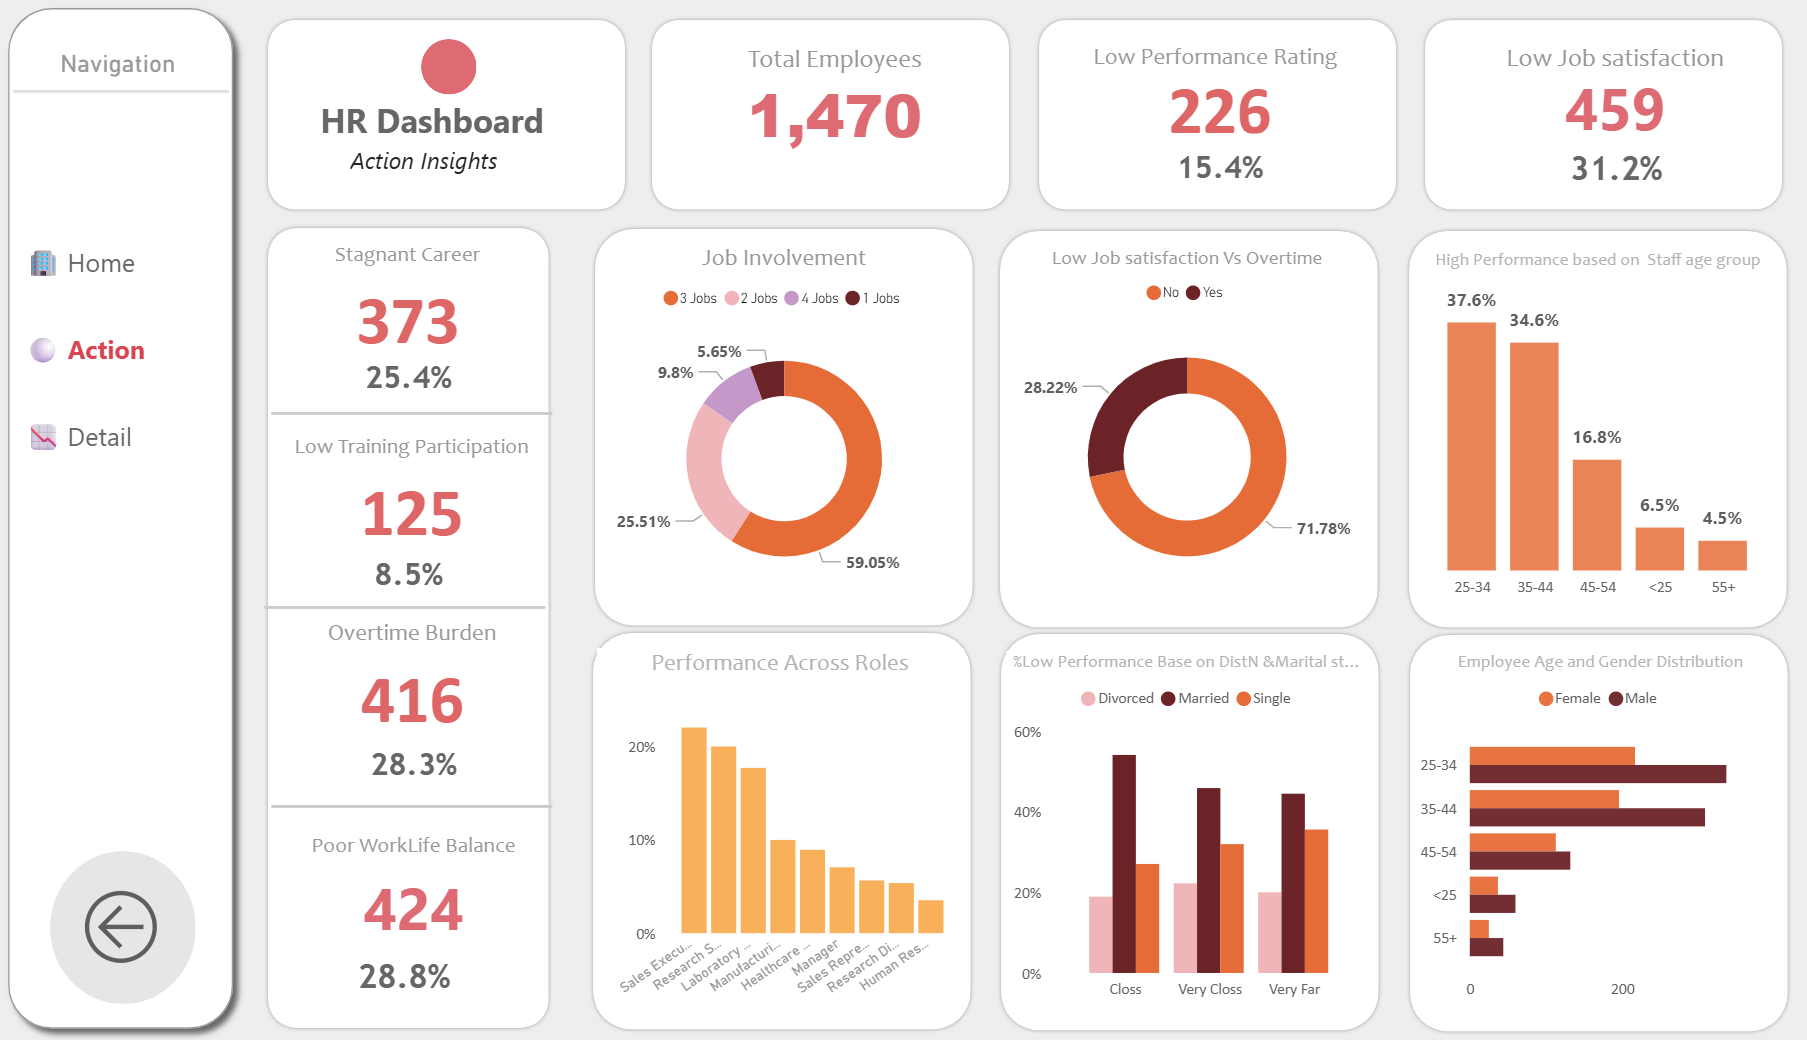

Layout of this report page (visuals, bound fields, positions):
{"tool":"powerbi","page":{"name":"⚪          Action","canvas":[1280,720],"ordinal":1},"visuals":[{"type":"shape","box":[440.3,158.5,265.3,278.2],"z":0},{"type":"shape","box":[30,0,172.9,720],"z":1000},{"type":"shape","box":[1010.9,14.1,251.1,135.9],"z":2000},{"type":"shape","box":[745.7,14.1,251.1,135.9],"z":3000},{"type":"shape","box":[215.2,14.1,251.1,135.9],"z":4000},{"type":"shape","box":[215.1,157.8,198.6,555.7],"z":5000},{"type":"shape","box":[438.9,436,265.3,278.2],"z":6000},{"type":"shape","box":[68.1,588.7,100.4,105.4],"z":7000},{"type":"textbox","title":"HR Dashboard","box":[248.9,70.7,179.3,34.8],"z":8000},{"type":"shape","box":[323.3,30,38.3,38.3],"z":9000},{"type":"shape","box":[479.3,14.1,251.1,135.9],"z":10000},{"type":"textbox","box":[269.4,97.8,113.9,34.8],"z":11000},{"type":"card","title":"Total Employees","fields":{"Values":["Sum(Sheet1.EmployeeCount)"]},"box":[521.7,32.6,171.7,82.6],"z":12000},{"type":"shape","box":[220.1,280.4,193.6,14.3],"z":13000},{"type":"card","title":"Poor WorkLife Balance","fields":{"Values":["HR Table.Poor WorkLifeBalance"]},"box":[231.6,575.8,172.8,84.6],"z":14000},{"type":"card","fields":{"Values":["HR Table.Percentage Poor WorkLifeBalance"]},"box":[258.9,656.9,106.1,37.3],"z":15000},{"type":"card","fields":{"Values":["HR Table.Percentage Overtime Burden"]},"box":[279.7,514.2,76.7,30.1],"z":16000},{"type":"shape","box":[42.9,60,148.6,12.9],"z":17000},{"type":"textbox","title":"Navigation","box":[70,37.1,91.4,27.1],"z":18000},{"type":"pageNavigator","title":"Navvigation","box":[43,157.6,150,170],"z":19000},{"type":"card","title":"Overtime Burden","fields":{"Values":["HR Table.Overtime Burden"]},"box":[237.4,428.8,159.9,85.3],"z":20000},{"type":"card","fields":{"Values":["HR Table.Percentage Low Performance Rating"]},"box":[834.5,104.2,77,30],"z":21000},{"type":"card","title":"Low Performance Rating","fields":{"Values":["HR Table.Low Performance Rating"]},"box":[780.7,32,183.9,68.1],"z":22000},{"type":"card","title":"Low Job satisfaction","fields":{"Values":["HR Table.Low Job Satisfaction"]},"box":[1048.4,31.3,192.8,69.5],"z":23000},{"type":"card","fields":{"Values":["HR Table.Percentage Low Job satisfaction"]},"box":[1101.5,100.8,87.2,37.5],"z":24000},{"type":"card","fields":{"Values":["HR Table.Percentage Low Training Participation"]},"box":[276.8,384.4,76.7,29.4],"z":25000},{"type":"card","title":"Low Training Participation","fields":{"Values":["HR Table.Low Training Participation"]},"box":[228.8,301.2,175.7,83.2],"z":26000},{"type":"card","fields":{"Values":["HR Table.Percentage Stagnant Career"]},"box":[276.1,248.8,77.4,29.4],"z":27000},{"type":"card","title":"Stagnant Career","fields":{"Values":["HR Table.Stagnant Career"]},"box":[226.6,169.2,175.7,83.9],"z":28000},{"type":"shape","box":[215.1,413.8,193.6,14.3],"z":29000},{"type":"shape","box":[718.5,159.9,265.3,278.2],"z":30000},{"type":"shape","box":[220.1,550.7,193.6,14.3],"z":31000},{"type":"clusteredColumnChart","title":"Performance Across Roles","fields":{"Category":["HR Table.JobRole"],"Y":["HR Table.Percentage PerformanceRating by JobRole"]},"box":[444.6,448.9,251.7,248.1],"z":32000},{"type":"shape","box":[1001.1,437.4,265.3,278.2],"z":33000},{"type":"shape","box":[1000.3,159.9,265.3,278.2],"z":34000},{"type":"shape","box":[719.2,436.7,265.3,278.2],"z":35000},{"type":"donutChart","title":"Job Involvement","fields":{"Category":["HR Table.Job Involvement"],"Y":["CountNonNull(HR Table.Job Involvement)"]},"box":[452.5,170.7,240.9,250.3],"z":36000},{"type":"lineClusteredColumnComboChart","title":"%Low Performance Base on DistN &Marital status","fields":{"Category":["HR Table.Distance from office"],"Y":["HR Table.Percentage Low Performance by Distance & MaritalStatus"],"Series":["HR Table.MaritalStatus"]},"box":[725.7,451,251.7,248.1],"z":37000},{"type":"clusteredBarChart","title":"Employee Age and Gender Distribution","fields":{"Category":["HR Table.Age Category"],"Y":["CountNonNull(HR Table.Age Category)"],"Series":["HR Table.Gender"]},"box":[1007.5,451,251.7,248.1],"z":38000},{"type":"donutChart","title":" Low Job satisfaction Vs Overtime","fields":{"Y":["HR Table.Percentage High Performance Rating R"],"Category":["HR Table.OverTime"]},"box":[730,172.1,240.9,250.3],"z":39000},{"type":"lineStackedColumnComboChart","title":"High Performance based on  Staff age group","fields":{"Category":["HR Table.Age Category"],"Y":["HR Table.Percentage High Performance Rating R"]},"box":[1006.8,175,251.7,248.1],"z":40000},{"type":"actionButton","box":[85.3,609.4,66.4,63.2],"z":41000}]}

Visuals, with their boxes in screenshot pixels (x1, y1, x2, y2), scaled from the page's 1280x720 canvas onto the 1807x1040 screenshot:
shape: crop(622, 229, 996, 631)
shape: crop(42, 0, 286, 1039)
shape: crop(1427, 20, 1782, 217)
shape: crop(1053, 20, 1407, 217)
shape: crop(304, 20, 658, 217)
shape: crop(304, 228, 584, 1031)
shape: crop(620, 630, 994, 1032)
shape: crop(96, 850, 238, 1003)
"HR Dashboard" textbox: crop(351, 102, 604, 152)
shape: crop(456, 43, 510, 99)
shape: crop(677, 20, 1031, 217)
textbox: crop(380, 141, 541, 192)
"Total Employees" card: crop(736, 47, 979, 166)
shape: crop(311, 405, 584, 426)
"Poor WorkLife Balance" card: crop(327, 832, 571, 954)
card - HR Table.Percentage Poor WorkLifeBalance: crop(365, 949, 515, 1003)
card - HR Table.Percentage Overtime Burden: crop(395, 743, 503, 786)
shape: crop(61, 87, 270, 105)
"Navigation" textbox: crop(99, 54, 228, 93)
"Navvigation" pageNavigator: crop(61, 228, 272, 473)
"Overtime Burden" card: crop(335, 619, 561, 743)
card - HR Table.Percentage Low Performance Rating: crop(1178, 151, 1287, 194)
"Low Performance Rating" card: crop(1102, 46, 1362, 145)
"Low Job satisfaction" card: crop(1480, 45, 1752, 146)
card - HR Table.Percentage Low Job satisfaction: crop(1555, 146, 1678, 200)
card - HR Table.Percentage Low Training Participation: crop(391, 555, 499, 598)
"Low Training Participation" card: crop(323, 435, 571, 555)
card - HR Table.Percentage Stagnant Career: crop(390, 359, 499, 402)
"Stagnant Career" card: crop(320, 244, 568, 366)
shape: crop(304, 598, 577, 618)
shape: crop(1014, 231, 1389, 633)
shape: crop(311, 795, 584, 816)
"Performance Across Roles" clusteredColumnChart: crop(628, 648, 983, 1007)
shape: crop(1413, 632, 1788, 1034)
shape: crop(1412, 231, 1787, 633)
shape: crop(1015, 631, 1390, 1033)
"Job Involvement" donutChart: crop(639, 247, 979, 608)
"%Low Performance Base on DistN &Marital status" lineClusteredColumnComboChart: crop(1024, 651, 1380, 1010)
"Employee Age and Gender Distribution" clusteredBarChart: crop(1422, 651, 1778, 1010)
" Low Job satisfaction Vs Overtime" donutChart: crop(1031, 249, 1371, 610)
"High Performance based on  Staff age group" lineStackedColumnComboChart: crop(1421, 253, 1777, 611)
actionButton: crop(120, 880, 214, 972)
